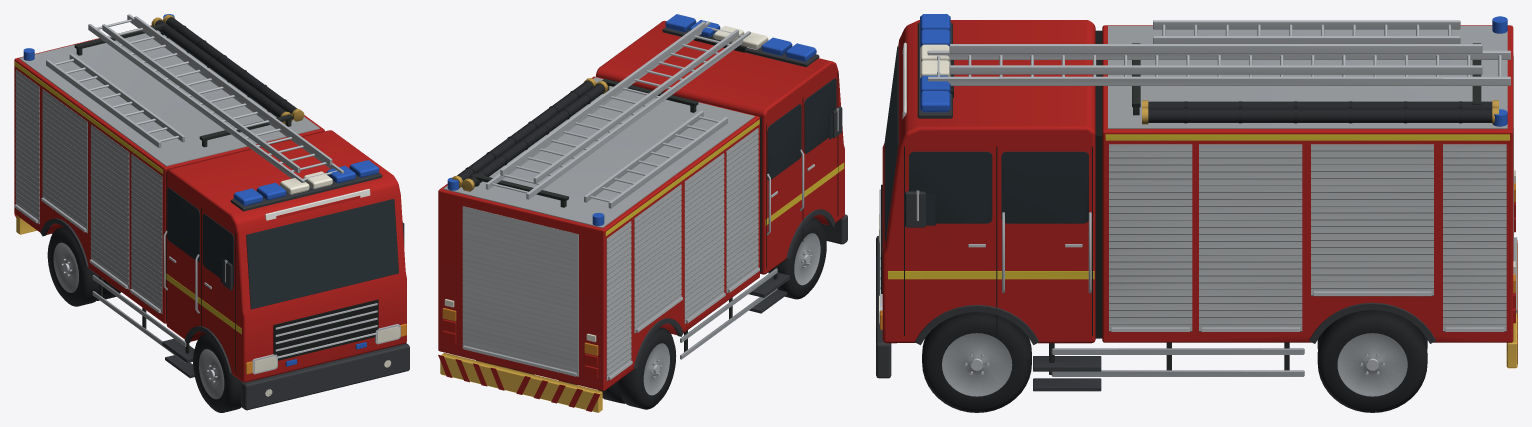
Rendered from fireEngine.glb.
3 views of the same model, side by side, from view 1: azimuth 30°, elevation 25°; view 2: azimuth 150°, elevation 25°; view 3: azimuth 270°, elevation 25° (orthographic). The views are drawn at different scales.
Visible parts, largest first — view 1: fireEngine; view 2: fireEngine; view 3: fireEngine.
Boxes of the visible parts, bbox=[...] form: fireEngine: bbox=[14, 14, 409, 412]; fireEngine: bbox=[438, 14, 847, 412]; fireEngine: bbox=[876, 14, 1517, 412].
Size of the model in its own units: 2.51 by 3.17 by 5.84.
